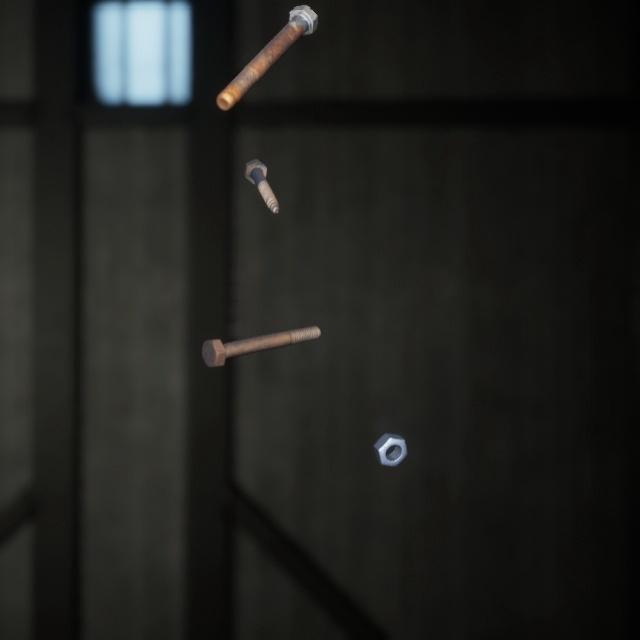bolt: (212, 0, 322, 103), (197, 302, 325, 352), (239, 140, 284, 202)
nut: (369, 408, 412, 451)
